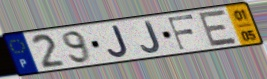2: (31, 33, 68, 71)
9: (62, 29, 94, 64)
E: (197, 8, 240, 49)
F: (167, 13, 197, 52)
J: (106, 24, 131, 59), (139, 19, 162, 54)
